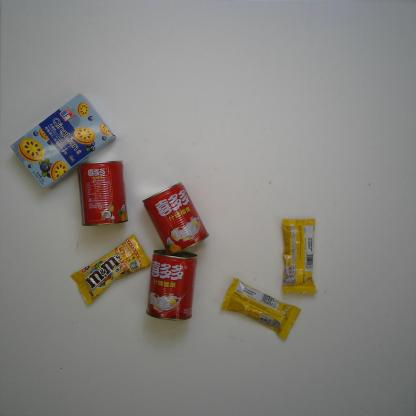Canned Food: (141, 180, 209, 256), (145, 249, 198, 321), (77, 160, 129, 226)
Chocolate: (70, 234, 152, 306), (220, 276, 301, 340), (280, 218, 318, 295)
Dessert: (10, 93, 116, 190)
